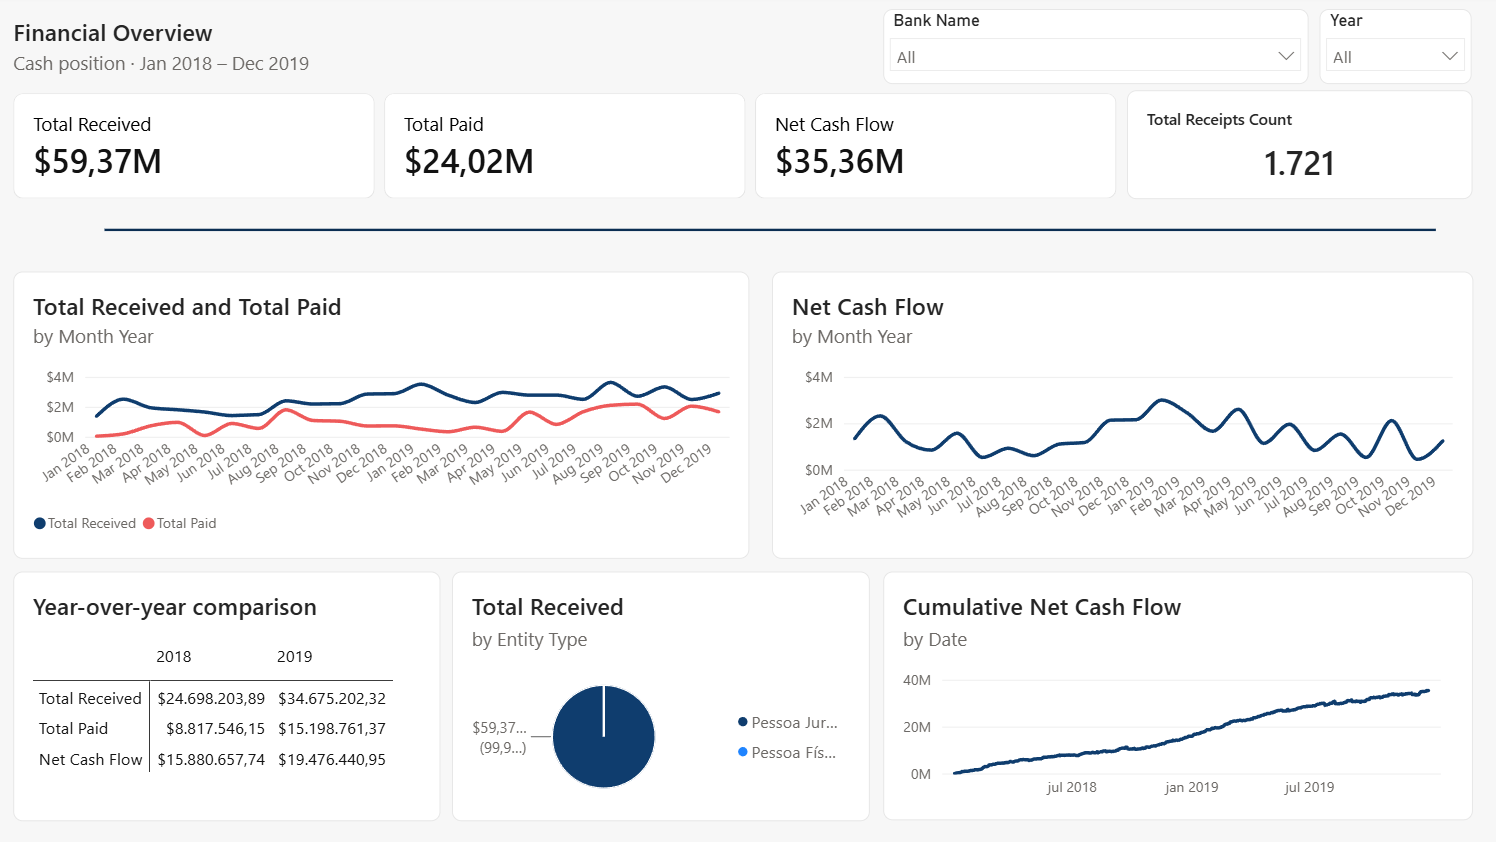

What the dashboard file says about the page in this screenshot:
{"tool":"powerbi","page":{"name":"Financial Overview","canvas":[1280,720],"ordinal":0},"visuals":[{"type":"cardVisual","title":"Financial Overview","fields":{"Data":["_measures.Total Received","_measures.Total Paid","_measures.Net Cash Flow"]},"box":[13.8,13.8,941.5,156.7],"z":0},{"type":"card","title":"Total Receipts Count","fields":{"Values":["_measures.Total Receipts Count"]},"box":[962.7,82.2,294.2,88.6],"z":1000},{"type":"lineChart","fields":{"Category":["dmDate.Month Year"],"Y":["_measures.Total Received","_measures.Total Paid"]},"box":[13.7,206.7,627.4,271],"z":2000},{"type":"lineChart","fields":{"Category":["dmDate.Month Year"],"Y":["_measures.Net Cash Flow"]},"box":[660.1,206.7,597.9,271],"z":3000},{"type":"lineChart","fields":{"Category":["dmDate.Date"],"Y":["_measures.Cumulative Net Cash Flow"]},"box":[754.7,487.7,502.7,211.9],"z":4000},{"type":"slicer","fields":{"Values":["dmDate.Year"]},"box":[1127.1,8.8,129.9,63.9],"z":5000},{"type":"slicer","fields":{"Values":["dmBanks.Bank Name"]},"box":[755.1,8.5,362.1,63.9],"z":6000},{"type":"shape","box":[72,163.4,1134.6,52.7],"z":7000},{"type":"pivotTable","title":"Year-over-year comparison","fields":{"Columns":["dmDate.Year"],"Values":["_measures.Total Received","_measures.Total Paid","_measures.Net Cash Flow"]},"box":[13.8,487.8,364.3,213],"z":8000},{"type":"pieChart","fields":{"Category":["dmClients.Entity Type"],"Y":["_measures.Total Received"]},"box":[387.4,487.7,356,213.1],"z":9000},{"type":"actionButton","title":"Cash Position","box":[358.5,8.4,152.9,27.4],"z":10000},{"type":"actionButton","title":"Page 3","box":[535.7,8.4,144.5,27.4],"z":11000},{"type":"actionButton","title":"Page 4","box":[535.7,41.1,144.5,27.4],"z":12000},{"type":"actionButton","title":"Page 2","box":[358.5,41.1,152.9,27.4],"z":13000}]}

Visuals, with their boxes in screenshot pixels (x1, y1, x2, y2), scaled from the page's 1280x720 canvas onto the 1496x842 screenshot:
"Financial Overview" cardVisual: region(16, 16, 1117, 199)
"Total Receipts Count" card: region(1125, 96, 1469, 200)
lineChart - dmDate.Month Year x _measures.Total Received: region(16, 242, 749, 559)
lineChart - dmDate.Month Year x _measures.Net Cash Flow: region(771, 242, 1470, 559)
lineChart - dmDate.Date x _measures.Cumulative Net Cash Flow: region(882, 570, 1470, 818)
slicer - dmDate.Year: region(1317, 10, 1469, 85)
slicer - dmBanks.Bank Name: region(883, 10, 1306, 85)
shape: region(84, 191, 1410, 253)
"Year-over-year comparison" pivotTable: region(16, 570, 442, 820)
pieChart - dmClients.Entity Type x _measures.Total Received: region(453, 570, 869, 820)
"Cash Position" actionButton: region(419, 10, 598, 42)
"Page 3" actionButton: region(626, 10, 795, 42)
"Page 4" actionButton: region(626, 48, 795, 80)
"Page 2" actionButton: region(419, 48, 598, 80)
